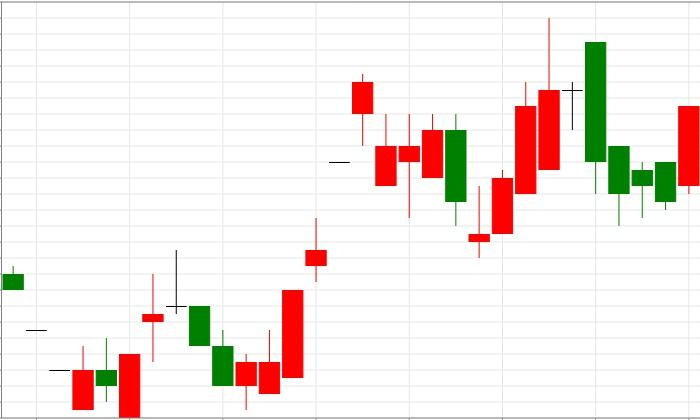morning_star_rise: (351, 73, 513, 258)
